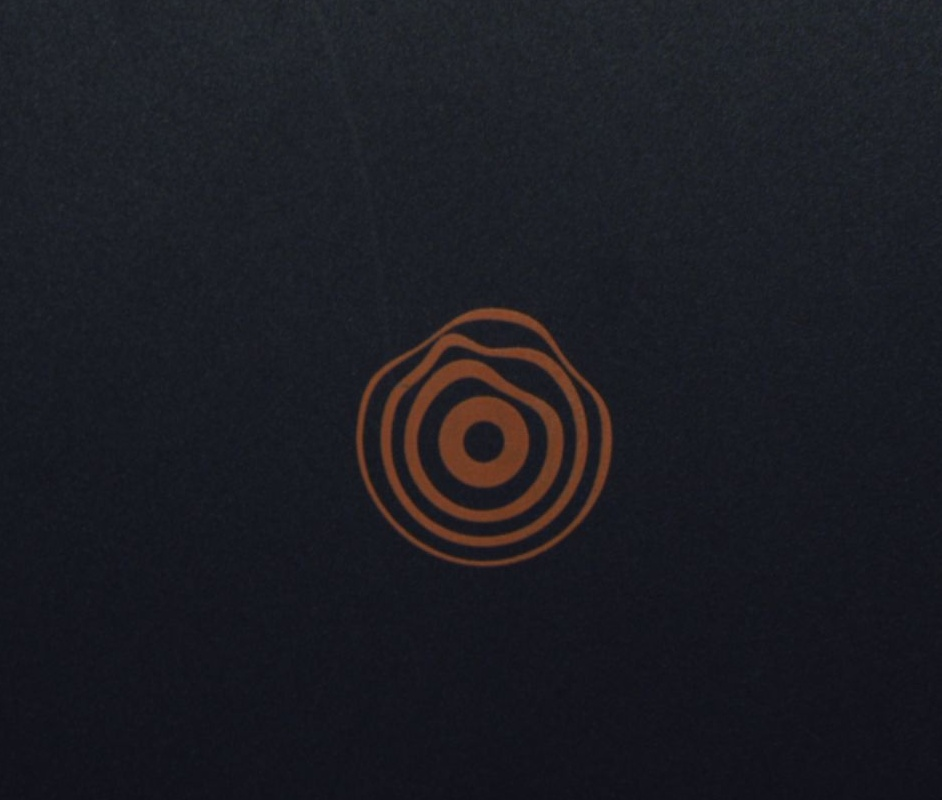BU_HG680GY: (334, 294, 631, 577)
